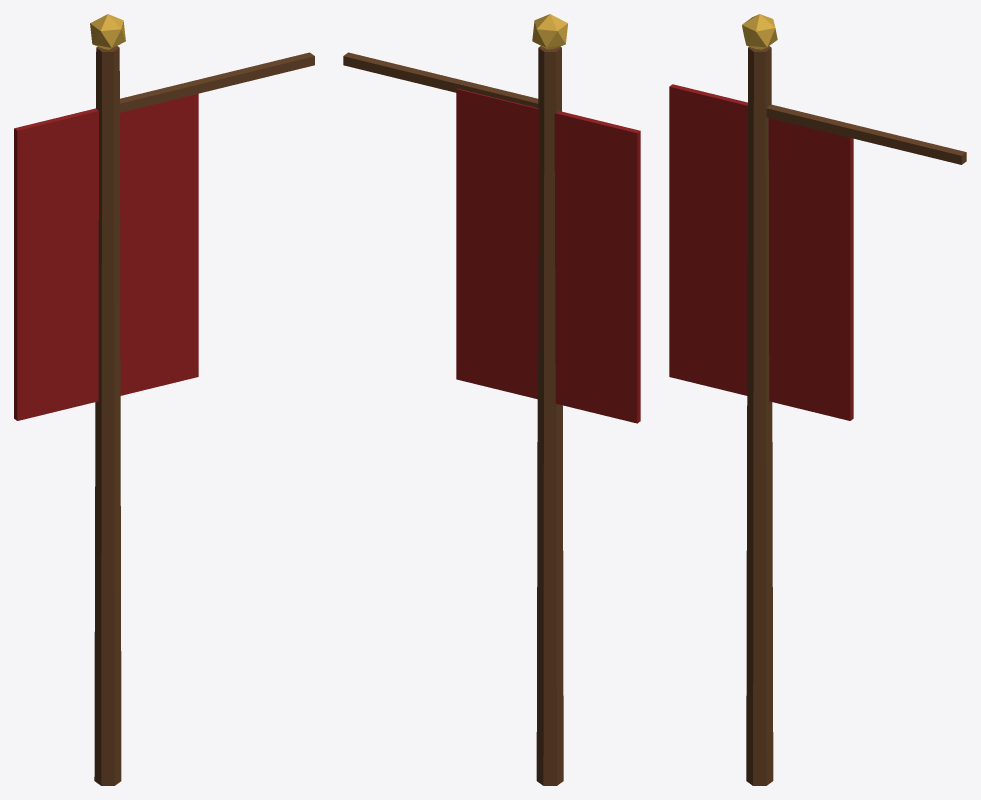
The model's file is Banner.fbx.
The picture shows the model from 3 angles, left to right: view 1: azimuth 30°, elevation 25°; view 2: azimuth 150°, elevation 25°; view 3: azimuth 330°, elevation 25°; orthographic projection.
Visible parts, largest first — view 1: Banner; view 2: Banner; view 3: Banner.
Boxes of the visible parts, <box> form: Banner: <box>14,14,314,785</box>; Banner: <box>343,14,640,785</box>; Banner: <box>669,14,966,785</box>.
Size of the model in its own units: 1.01 by 2.51 by 0.1021.
